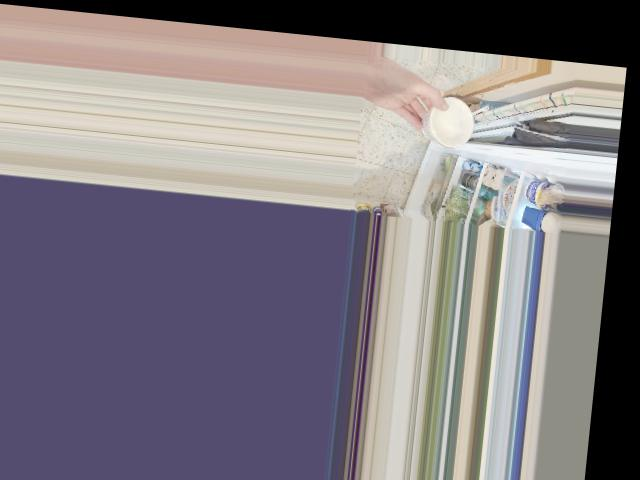cotage: (422, 99, 474, 147)
